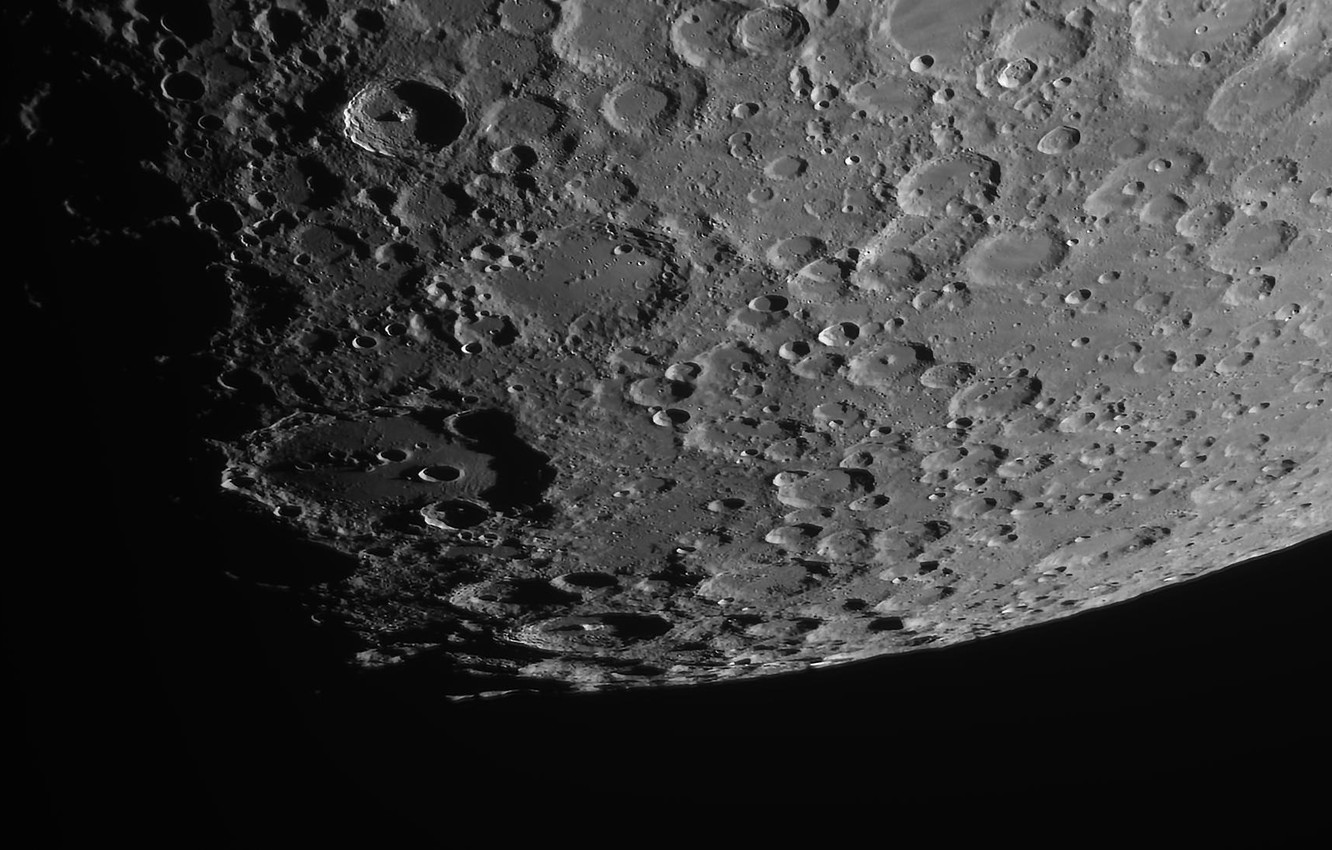crater: (187, 317, 633, 597), (320, 54, 480, 173), (950, 216, 1092, 305), (574, 67, 691, 171), (837, 340, 944, 400), (1229, 145, 1315, 207), (691, 478, 762, 527), (1022, 120, 1100, 163), (1207, 337, 1267, 390), (991, 47, 1047, 101), (886, 41, 953, 81), (755, 146, 812, 189)
